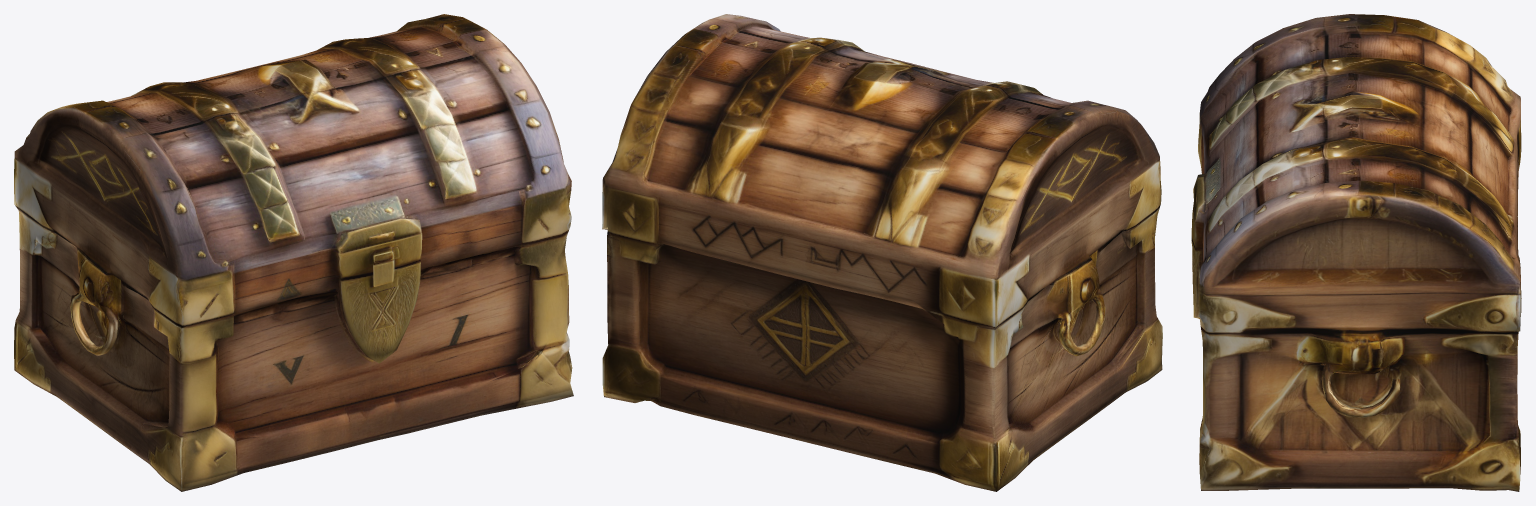
Rendered from chest.glb.
3 views of the same model, side by side, from view 1: azimuth 30°, elevation 25°; view 2: azimuth 150°, elevation 25°; view 3: azimuth 270°, elevation 25° (orthographic). The views are drawn at different scales.
Size of the model in its own units: 1.99 by 1.44 by 1.43.
Materials: 1 (1 with a texture image).
